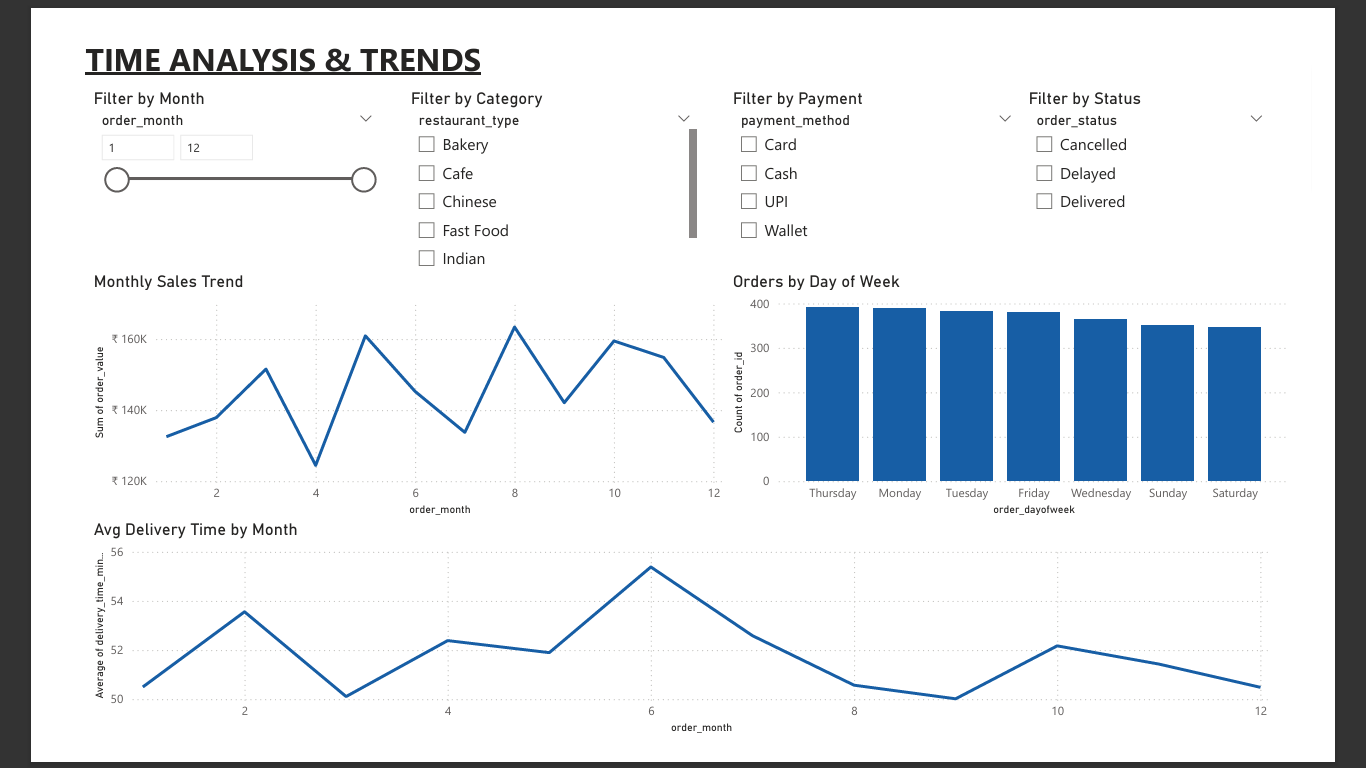

What the dashboard file says about the page in this screenshot:
{"tool":"powerbi","page":{"name":"Time Analysis & Trends","canvas":[1280,720],"ordinal":3},"visuals":[{"type":"lineChart","title":"Monthly Sales Trend","fields":{"Category":["food_delivery_processed.order_month"],"Y":["Sum(food_delivery_processed.order_value)"]},"box":[35.1,244.2,650.6,253.2],"z":0},{"type":"clusteredColumnChart","title":"Orders by Day of Week","fields":{"Category":["food_delivery_processed.order_dayofweek"],"Y":["CountNonNull(food_delivery_processed.order_id)"]},"box":[685.7,244.2,576.6,253.2],"z":1000},{"type":"lineChart","title":"Avg Delivery Time by Month","fields":{"Category":["food_delivery_processed.order_month"],"Y":["Avg(food_delivery_processed.delivery_time_minutes)"]},"box":[35.1,497.4,1207.8,222.1],"z":2000},{"type":"slicer","title":"Filter by Month","fields":{"Values":["food_delivery_processed.order_month"]},"box":[35.1,58.4,301.3,185.7],"z":3000},{"type":"slicer","title":"Filter by Category","fields":{"Values":["food_delivery_processed.restaurant_type"]},"box":[358.4,58.4,301.3,185.7],"z":4000},{"type":"slicer","title":"Filter by Payment","fields":{"Values":["food_delivery_processed.payment_method"]},"box":[685.7,58.4,301.3,185.7],"z":4001},{"type":"slicer","title":"Filter by Status","fields":{"Values":["food_delivery_processed.order_status"]},"box":[987,58.4,255.8,185.7],"z":4002},{"type":"textbox","box":[0,0,466.2,58.4],"z":4003}]}

Visuals, with their boxes in screenshot pixels (x1, y1, x2, y2), scaled from the page's 1280x720 canvas onto the 1366x768 screenshot:
"Monthly Sales Trend" lineChart: (37,260,732,531)
"Orders by Day of Week" clusteredColumnChart: (732,260,1347,531)
"Avg Delivery Time by Month" lineChart: (37,531,1326,767)
"Filter by Month" slicer: (37,62,359,260)
"Filter by Category" slicer: (382,62,704,260)
"Filter by Payment" slicer: (732,62,1053,260)
"Filter by Status" slicer: (1053,62,1326,260)
textbox: (0,0,498,62)
